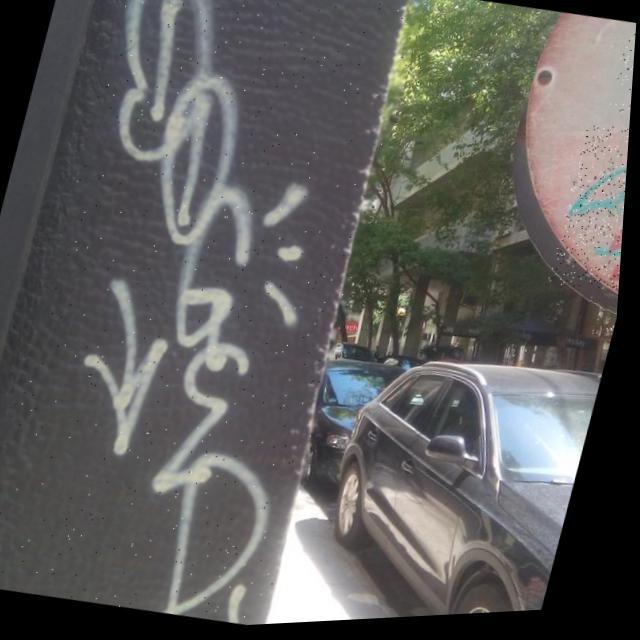-: (0, 0, 428, 640), (551, 127, 632, 304), (608, 29, 637, 129)
